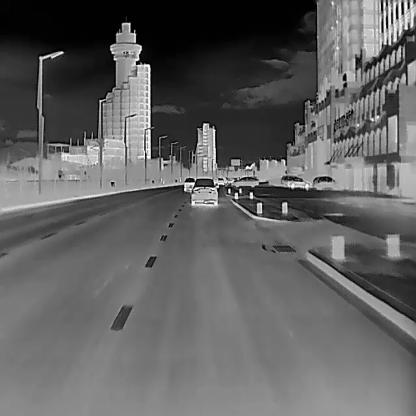car: (190, 177, 217, 206), (313, 173, 336, 190), (283, 176, 309, 190), (232, 175, 258, 186), (280, 174, 298, 186), (184, 176, 194, 192)
